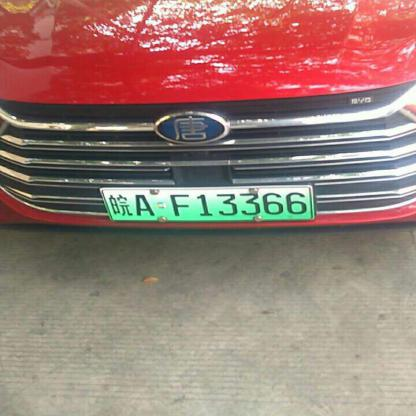lp: (102, 187, 311, 220)
